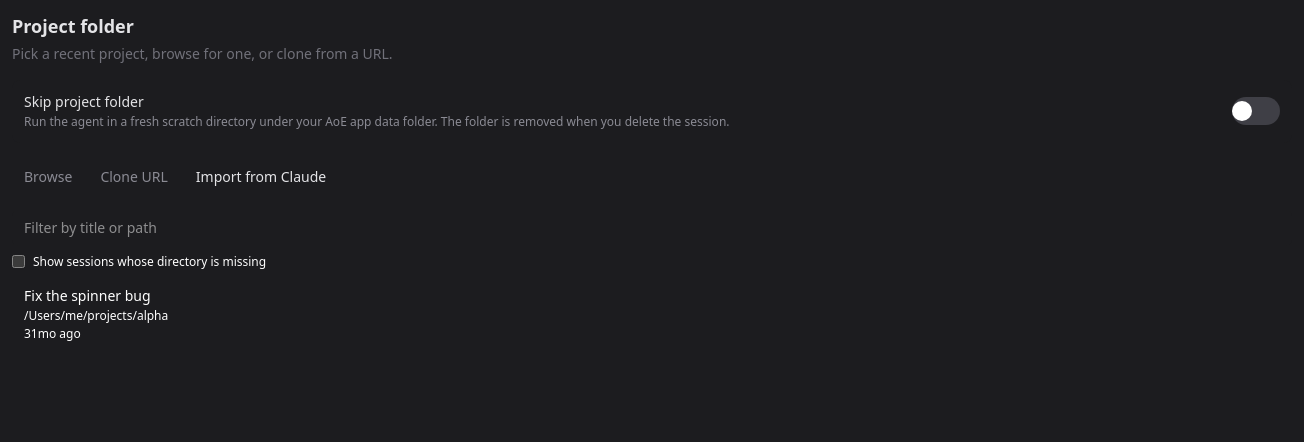
Test: ProjectStep Import from Claude tab (#2276) › lists discovered sessions and hides missing-cwd ones until toggled
This screenshot has width=1304, height=442.
expect the text "Fix the spinner bug" is shown: met, box [24,286,151,306]
expect the text "/Users/me/projects/alpha" is shown: met, box [24,308,168,324]
# Toggle reveals it, disabled.
Click the checkbox named "Show sessions with missing directories" at [18, 262], box [12,255,25,268]
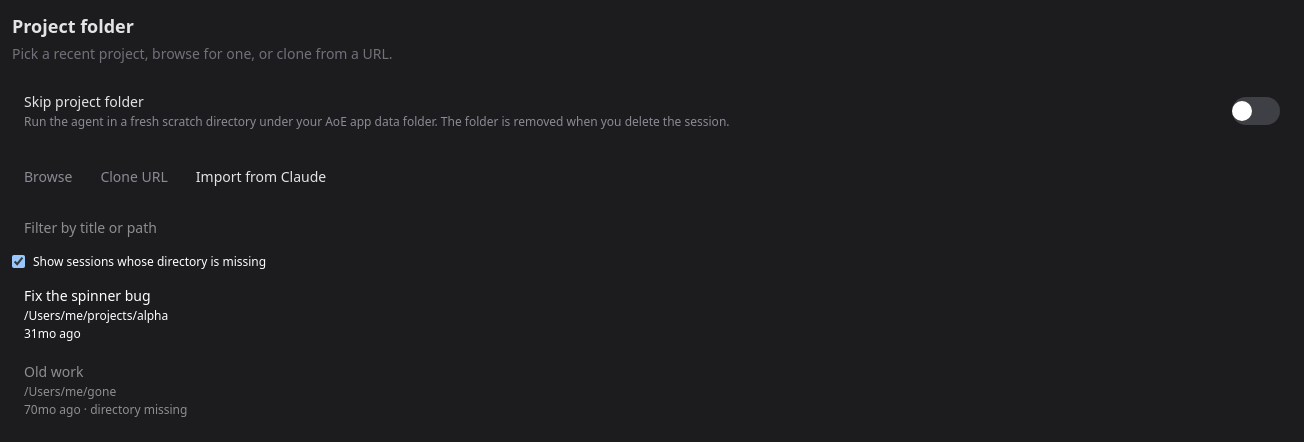
expect the button "Old work" is disabled: met, box [12,354,1292,426]
